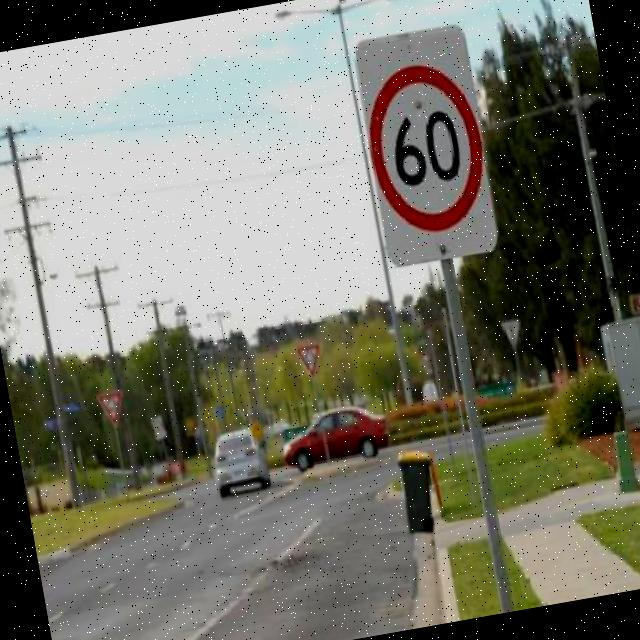Ograniczenie predkosci do 60: (360, 51, 497, 244)
